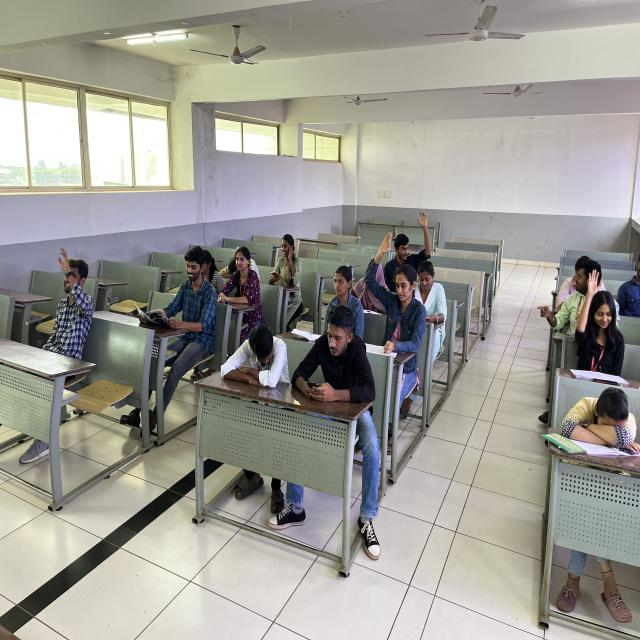Hand Rising: (5, 234, 110, 382), (353, 232, 426, 325), (576, 268, 628, 358), (381, 203, 442, 278)
Reading: (134, 245, 210, 336), (406, 260, 460, 335)
Sleeping: (228, 312, 288, 433), (554, 370, 640, 444)
Using Phone: (295, 301, 373, 432), (268, 207, 306, 298)
